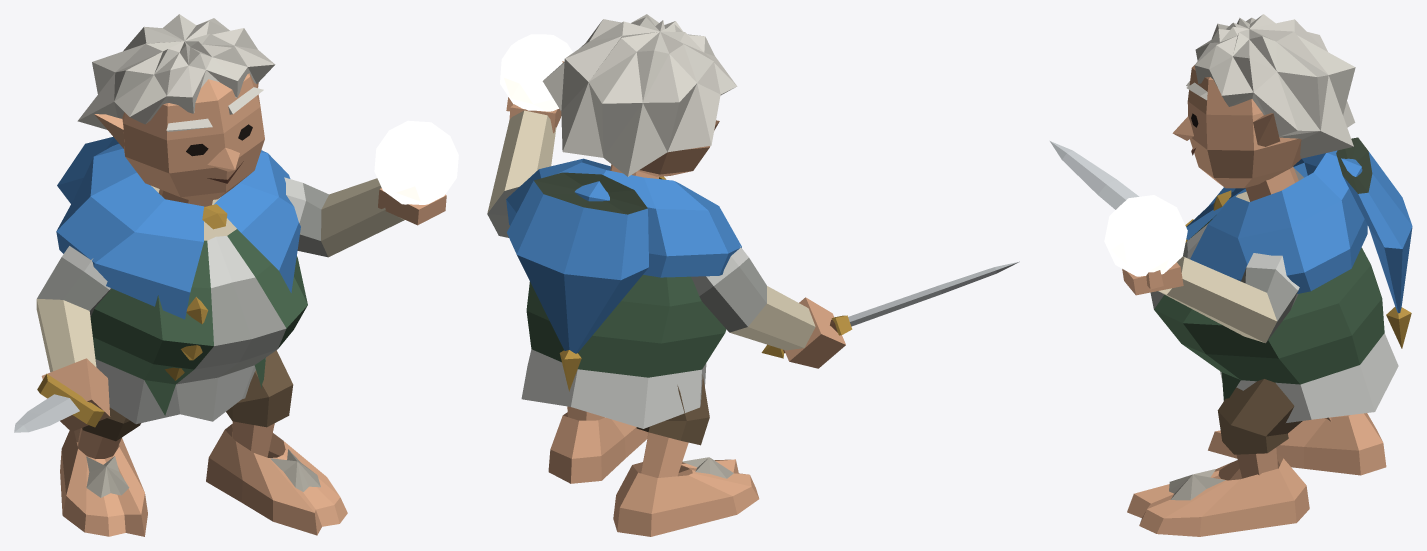
The model's file is bilbo-3.glb.
3 renders of one model, left to right at view 1: azimuth 30°, elevation 25°; view 2: azimuth 150°, elevation 25°; view 3: azimuth 270°, elevation 25°, orthographic. The views are drawn at different scales.
Visible parts, largest first — view 1: bilbo-3; view 2: bilbo-3; view 3: bilbo-3.
Part boxes in pixels (left/top/right/bottom): bilbo-3: left=14, top=14, right=458, bottom=536; bilbo-3: left=487, top=14, right=1019, bottom=536; bilbo-3: left=1050, top=14, right=1412, bottom=536.
Bounding box in the file's own units: 0.9351 × 0.8624 × 0.6193.
